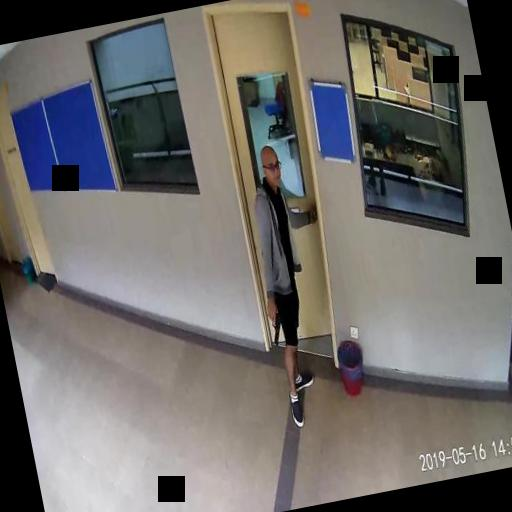Handgun: (266, 308, 286, 344)
